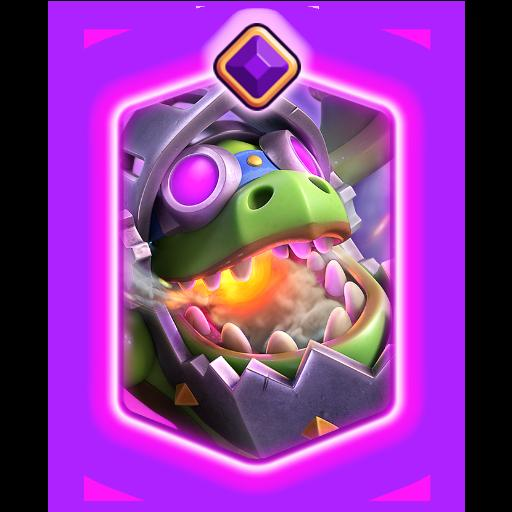inferno-dragon-evo: (122, 101, 398, 433)
